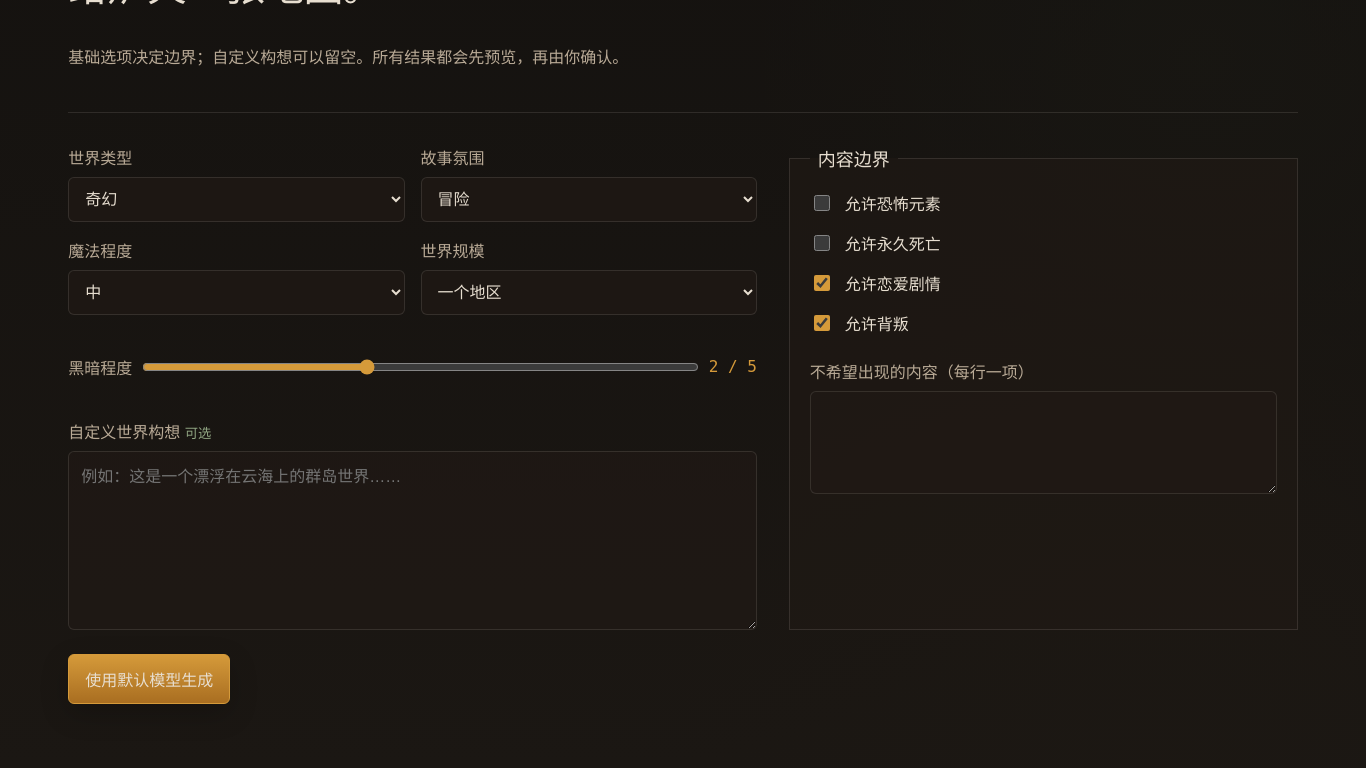
Test case: world creation page › submits base options and an optional concept before showing the generated preview
The width and height of the screenshot is (1366, 768).
(page scrolled)
In the text box labelled "自定义世界构想 可选": (413, 541) [68,451,757,630], type "漂浮在云海上的群岛。"
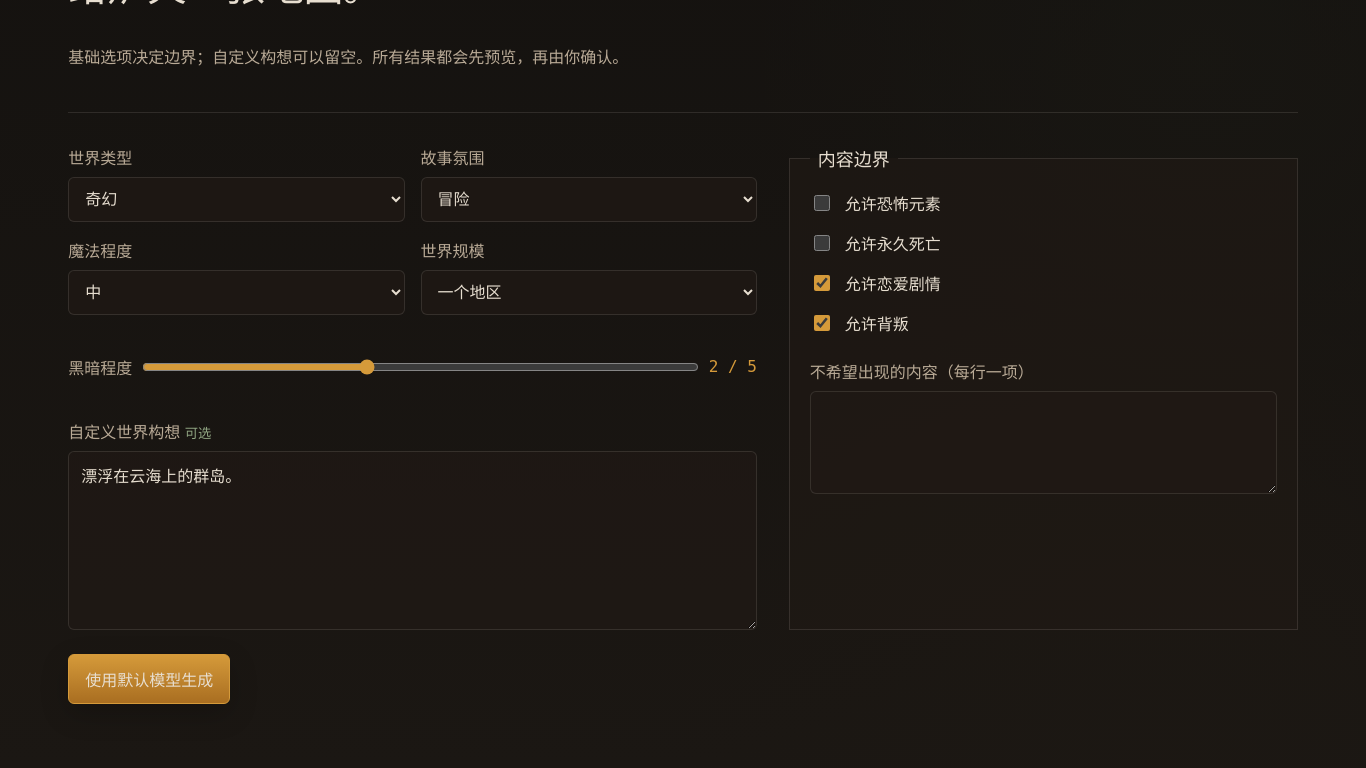
Select "蒸汽朋克" in the dropdown labelled "世界类型": (236, 200) [68,177,405,222]
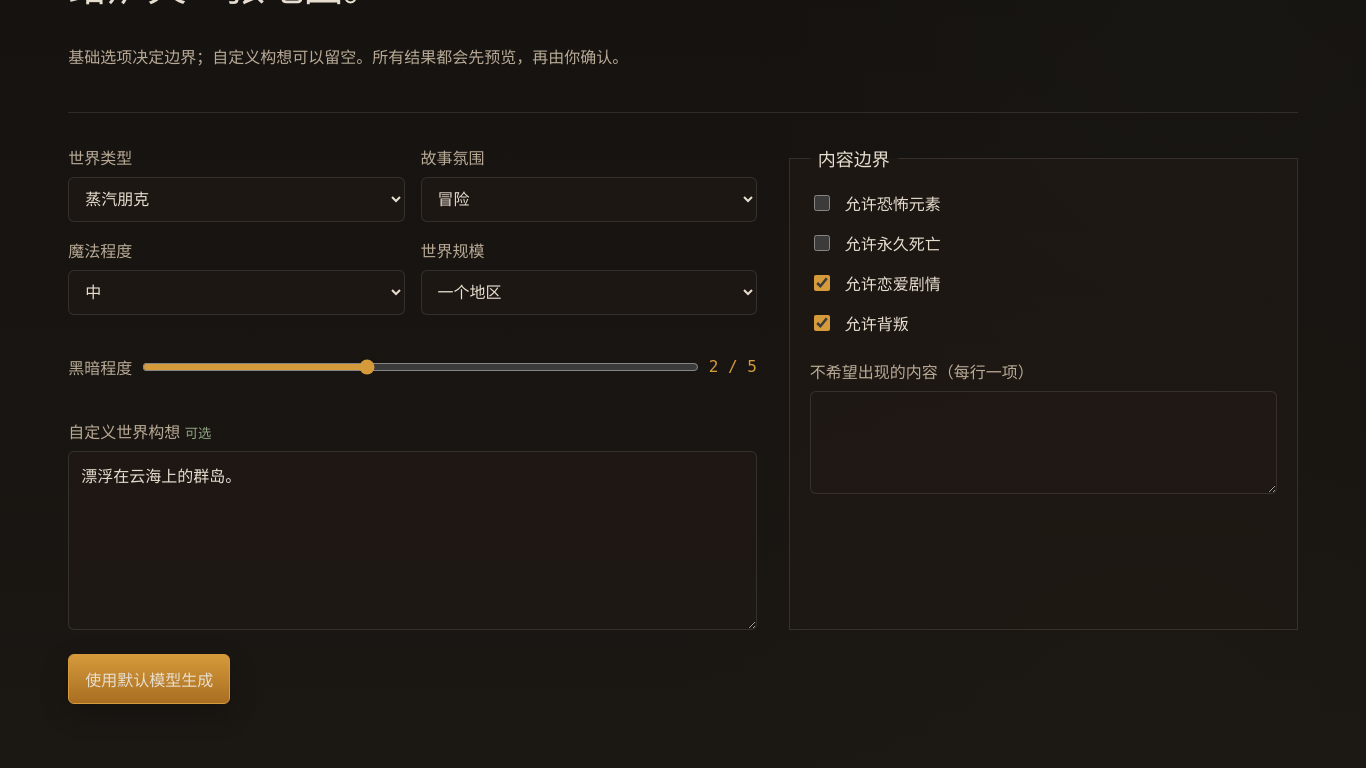
Click the button "使用默认模型生成": click(149, 679) [68,654,230,704]
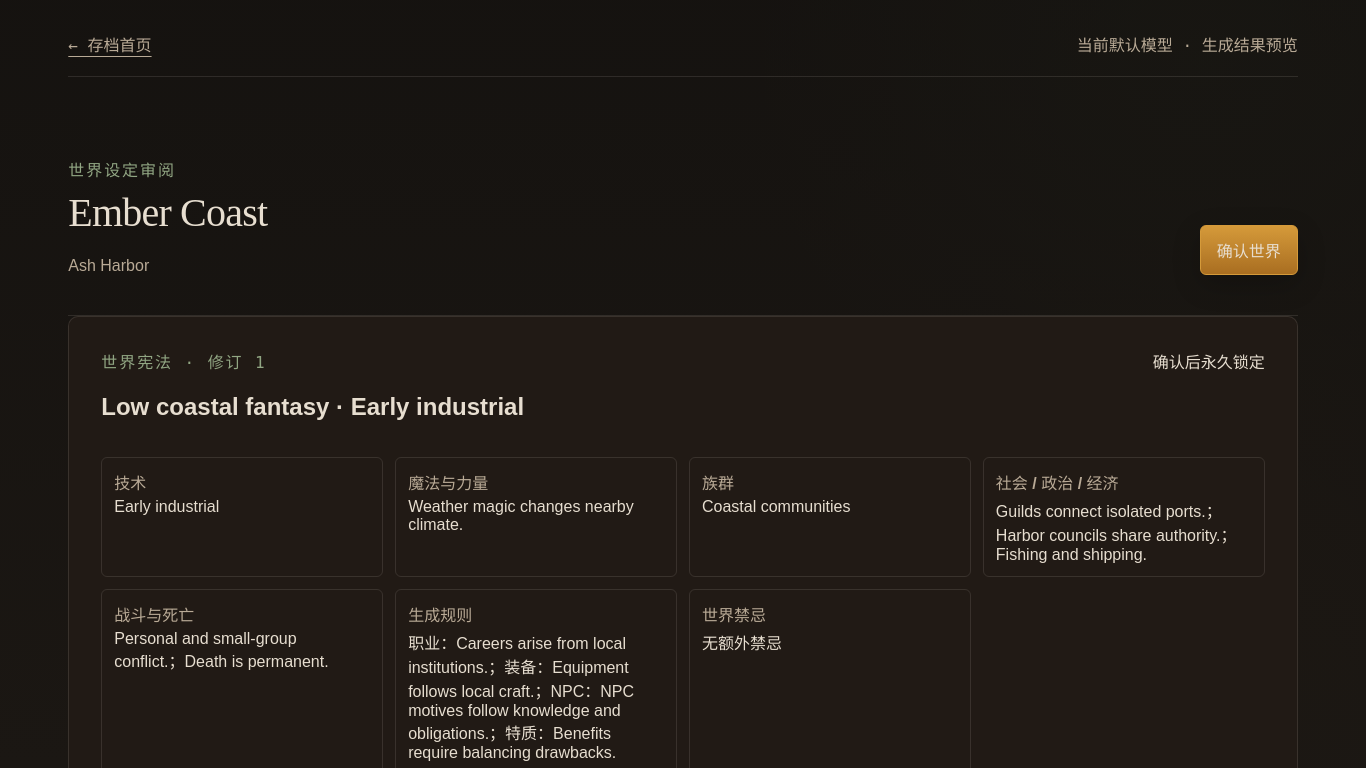
Result: the field showing "Ember Coast" is shown at [68,189,559,237]
